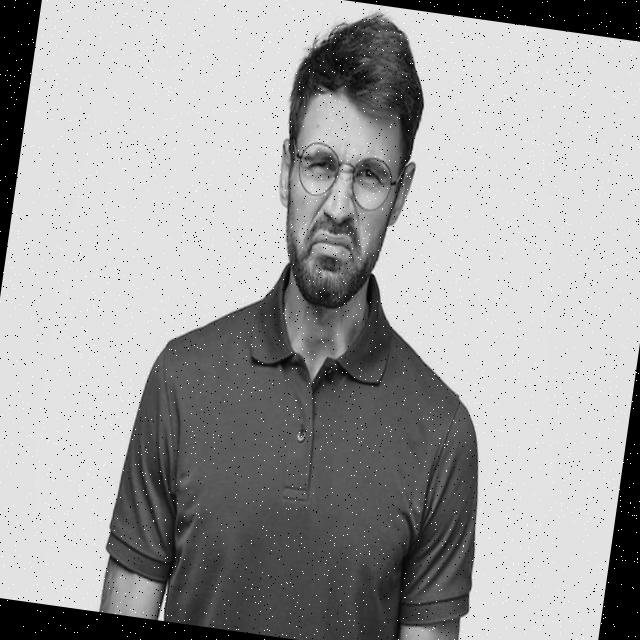Disgust: (269, 88, 410, 320)
